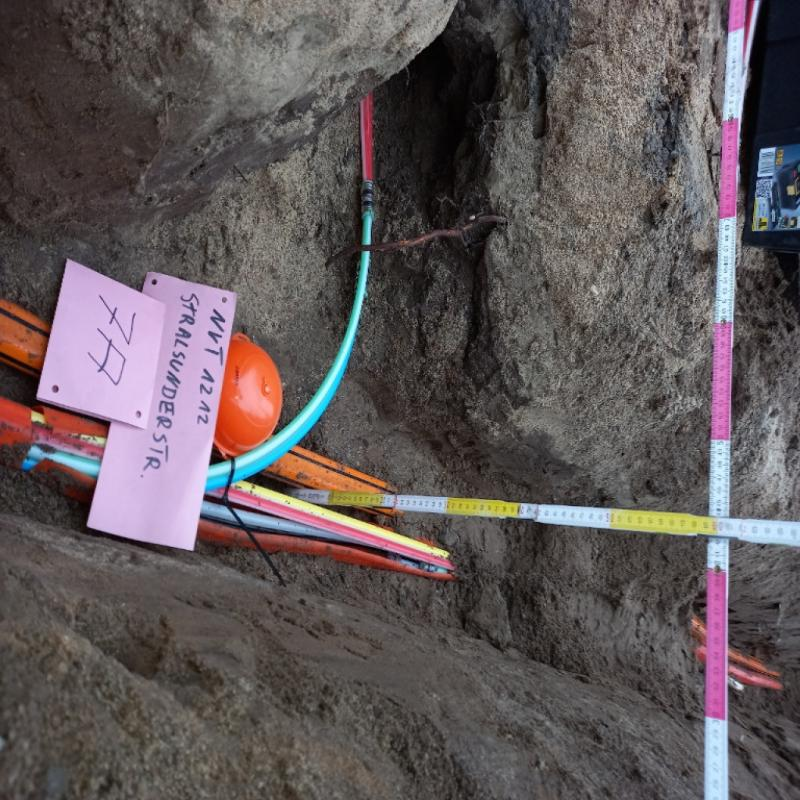Kugelmarker: (206, 338, 279, 455)
Orang-Speednetrohrchen: (0, 400, 464, 570), (242, 433, 397, 522)
